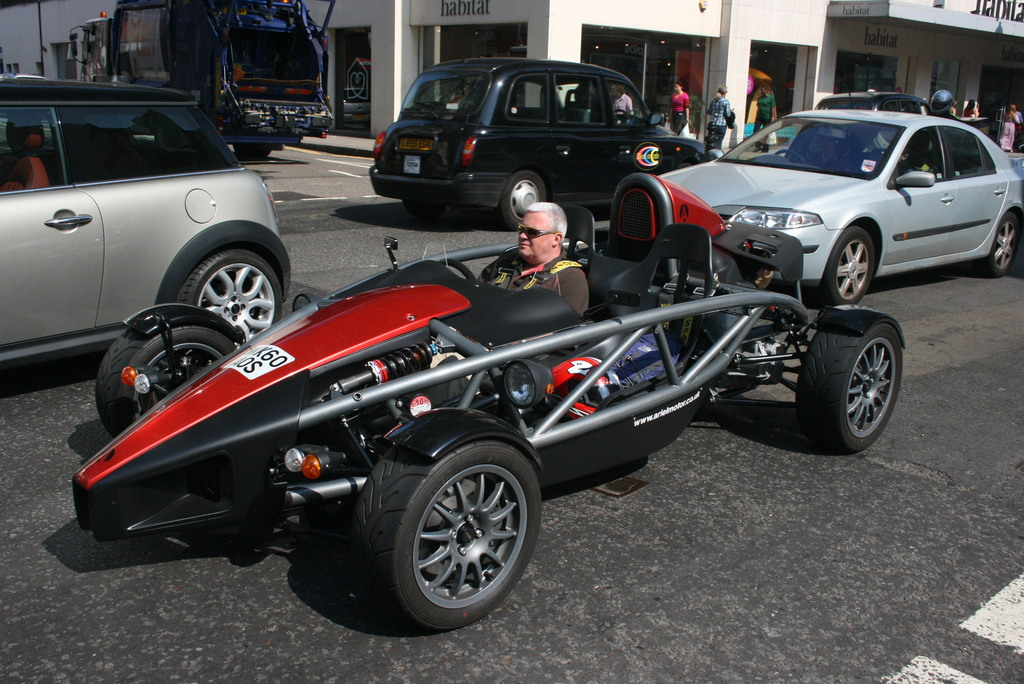Car: (67, 171, 902, 649), (658, 100, 1023, 308), (0, 79, 286, 343), (357, 56, 713, 235)
